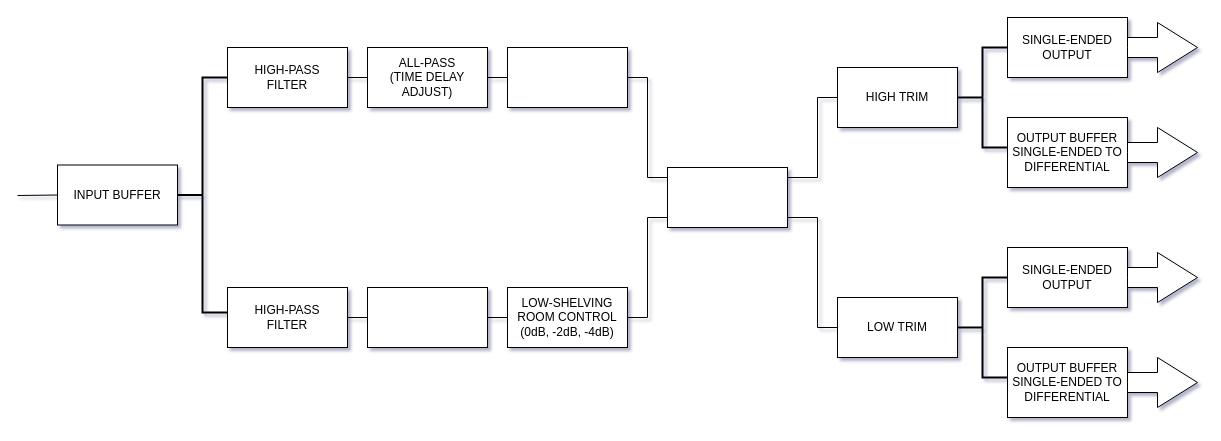
The diagram is 1221 pixels wide and 441 high, and some of its shapes have lost their labels. The centre of each missing label's shape, as x and y in pixels:
HIGH-SHELVING CUT/BOOST (-2dB, 0dB, 2dB): (567,77)
LOW-PASS FILTER: (427,317)
MASTER TRIM: (727,197)
